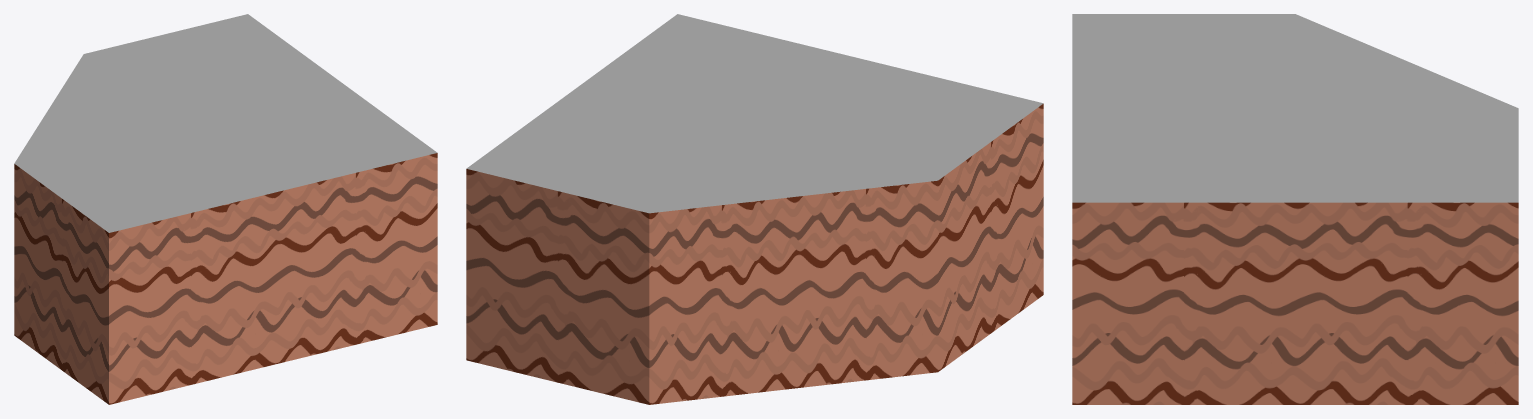
File: a_z2_ground_02.fbx
3 views of the same model, side by side, from view 1: azimuth 30°, elevation 25°; view 2: azimuth 150°, elevation 25°; view 3: azimuth 270°, elevation 25° (orthographic). The views are drawn at different scales.
Parts seen in each view (by area): view 1: a_z2_ground_02; view 2: a_z2_ground_02; view 3: a_z2_ground_02.
Boxes of the visible parts, x1,y1,x2,y2 form: a_z2_ground_02: (14, 14, 437, 404); a_z2_ground_02: (466, 14, 1043, 404); a_z2_ground_02: (1072, 14, 1518, 404).
Bounding box in the file's own units: 600 × 300 × 600.
Materials: 2 (1 with a texture image).
